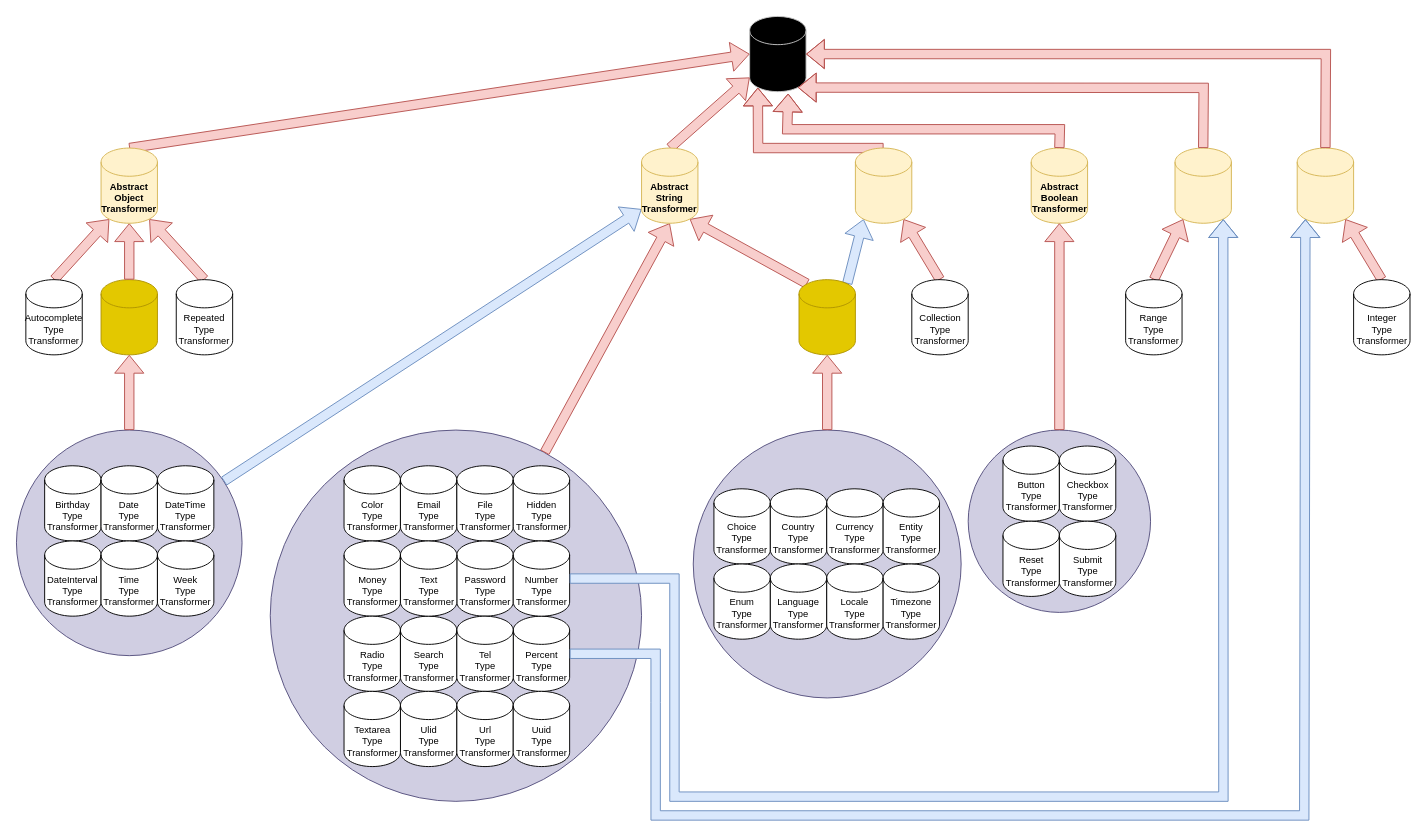
The diagram is 1427 pixels wide and 837 high, and some of its shapes have lost their labels. Each missing label, with the centre of its shape:
"Abstract Array Transformer" belongs at point (883, 185).
"Abstract Choice Transformer" belongs at point (826, 317).
"Abstract DateTime Transformer" belongs at point (128, 317).
"Abstract Integer Transformer" belongs at point (1325, 185).
"Abstract Number Transformer" belongs at point (1202, 185).
"Abstract Transformer" belongs at point (777, 54).
